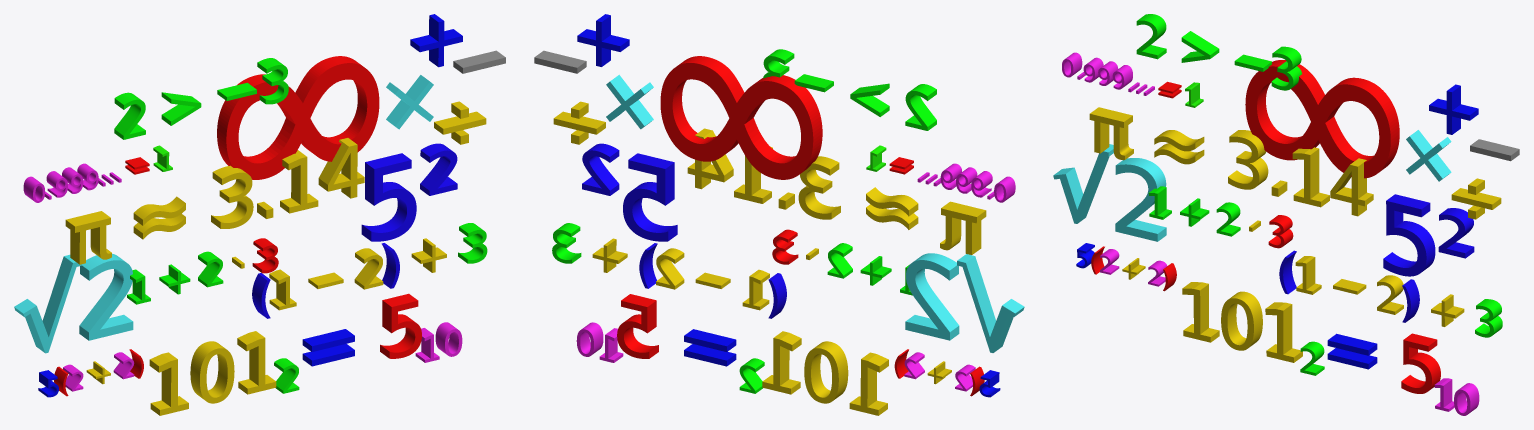
File: math_symbols.glb
3 views of the same model, side by side, from view 1: azimuth 30°, elevation 25°; view 2: azimuth 150°, elevation 25°; view 3: azimuth 330°, elevation 25° (orthographic). The views are drawn at different scales.
Visible parts, largest first — view 1: path3132_2, path3136_3, path3219_32, path3217_31, path3143_6, path3149_9, path3193_20, path3199_23, path3189_18, path3191_19, path3147_8, path3141_5 (+24 smaller); view 2: path3132_2, path3136_3, path3219_32, path3217_31, path3143_6, path3149_9, path3189_18, path3193_20, path3191_19, path3147_8, path3145_7, path3138_4 (+23 smaller); view 3: path3132_2, path3136_3, path3219_32, path3143_6, path3217_31, path3149_9, path3189_18, path3193_20, path3199_23, path3147_8, path3145_7, path3141_5 (+23 smaller).
Boxes of the visible parts, x1=… form: path3132_2: x1=217, y1=56, x2=379, y2=179; path3136_3: x1=361, y1=153, x2=416, y2=241; path3219_32: x1=79, y1=253, x2=133, y2=340; path3217_31: x1=14, y1=254, x2=81, y2=353; path3143_6: x1=190, y1=341, x2=234, y2=403; path3149_9: x1=380, y1=293, x2=421, y2=358; path3193_20: x1=211, y1=165, x2=253, y2=228; path3199_23: x1=318, y1=138, x2=364, y2=198; path3189_18: x1=65, y1=211, x2=111, y2=264; path3191_19: x1=133, y1=196, x2=185, y2=239; path3147_8: x1=302, y1=329, x2=354, y2=366; path3141_5: x1=149, y1=352, x2=188, y2=415; path3132_2: x1=660, y1=56, x2=822, y2=179; path3136_3: x1=623, y1=153, x2=677, y2=241; path3219_32: x1=905, y1=253, x2=959, y2=340; path3217_31: x1=957, y1=254, x2=1024, y2=352; path3143_6: x1=804, y1=341, x2=848, y2=403; path3149_9: x1=617, y1=294, x2=658, y2=358; path3189_18: x1=940, y1=201, x2=986, y2=254; path3193_20: x1=798, y1=156, x2=840, y2=219; path3191_19: x1=866, y1=187, x2=918, y2=229; path3147_8: x1=684, y1=329, x2=736, y2=366; path3145_7: x1=762, y1=331, x2=801, y2=394; path3138_4: x1=582, y1=143, x2=619, y2=195; path3132_2: x1=1245, y1=60, x2=1399, y2=178; path3136_3: x1=1383, y1=194, x2=1435, y2=276; path3219_32: x1=1115, y1=158, x2=1166, y2=241; path3143_6: x1=1221, y1=291, x2=1262, y2=350; path3217_31: x1=1053, y1=144, x2=1113, y2=223; path3149_9: x1=1401, y1=333, x2=1440, y2=393; path3189_18: x1=1089, y1=107, x2=1133, y2=160; path3193_20: x1=1228, y1=130, x2=1268, y2=189; path3199_23: x1=1330, y1=158, x2=1373, y2=216; path3147_8: x1=1327, y1=333, x2=1377, y2=369; path3145_7: x1=1265, y1=302, x2=1302, y2=362; path3141_5: x1=1182, y1=282, x2=1219, y2=342.
Size of the model in its own units: 3.31 by 2.24 by 0.1927.
